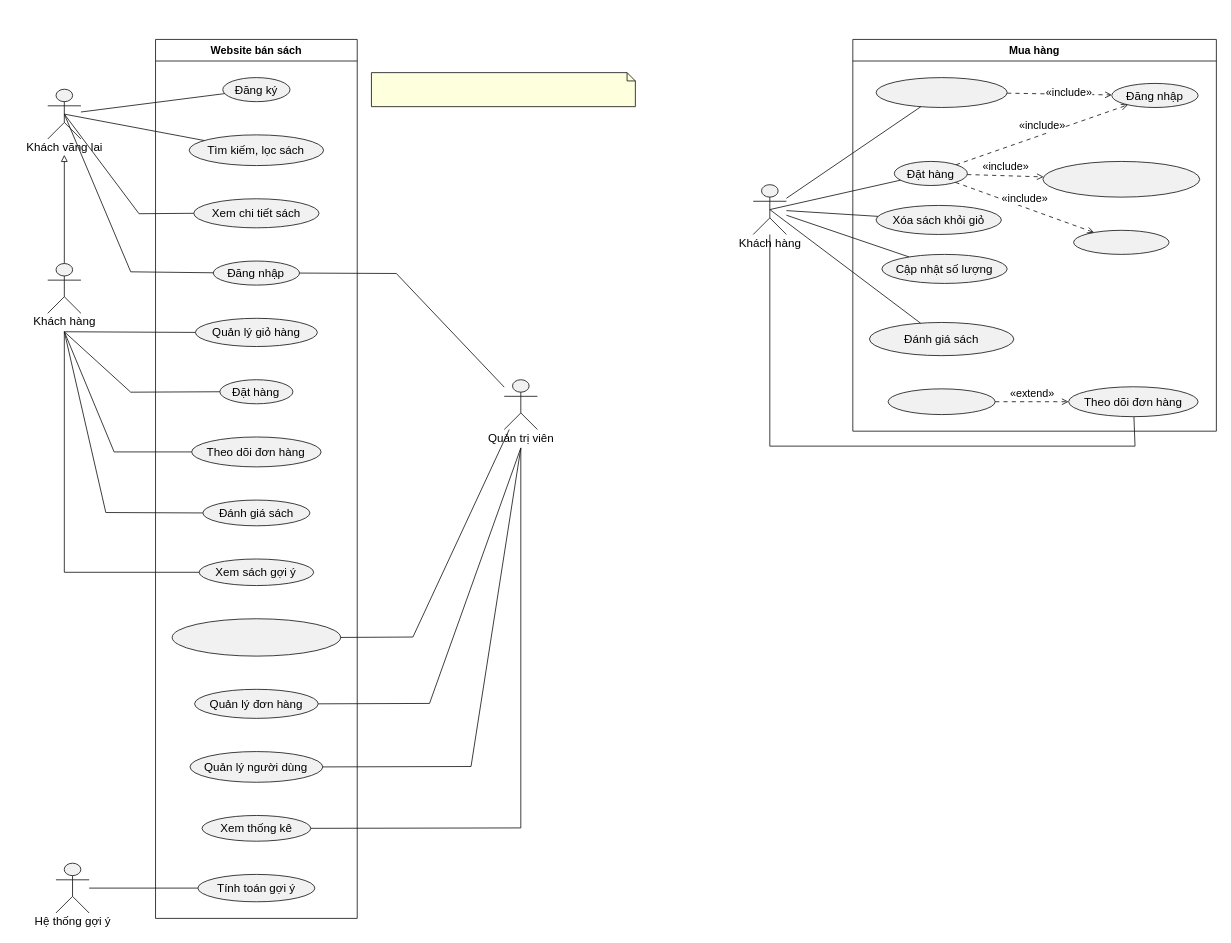
Some shapes in this 1231 by 943 pixel diagram are drawn without their labels. The shapes that lost their labels are listed below. From the top down, each one's centre as x and y in pixels, then its label:
the point at 503,89: Các use case của Khách hàng và Quản trị viên yêu cầu đã đăng nhập
the point at 941,92: Thêm sách vào giỏ
the point at 1121,179: Chọn địa chỉ giao hàng
the point at 1121,241: Thanh toán
the point at 941,401: Hủy đơn hàng
the point at 256,637: Quản lý sách và danh mục
